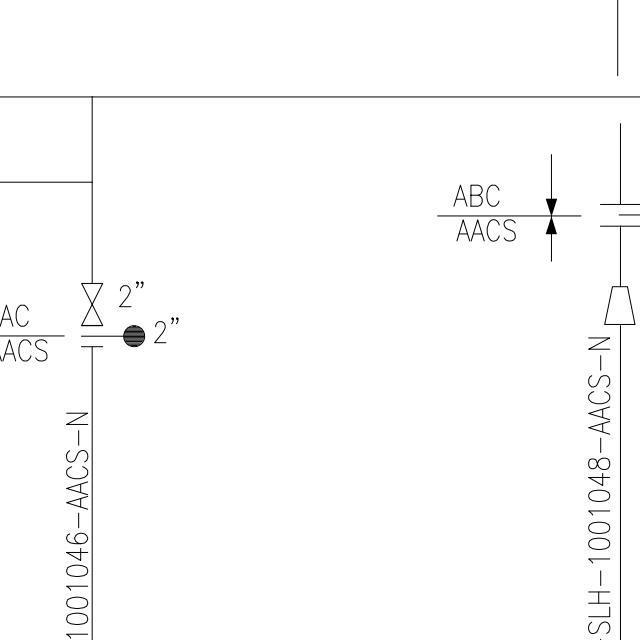GV: (75, 276, 107, 329)
SP: (599, 279, 638, 329)
